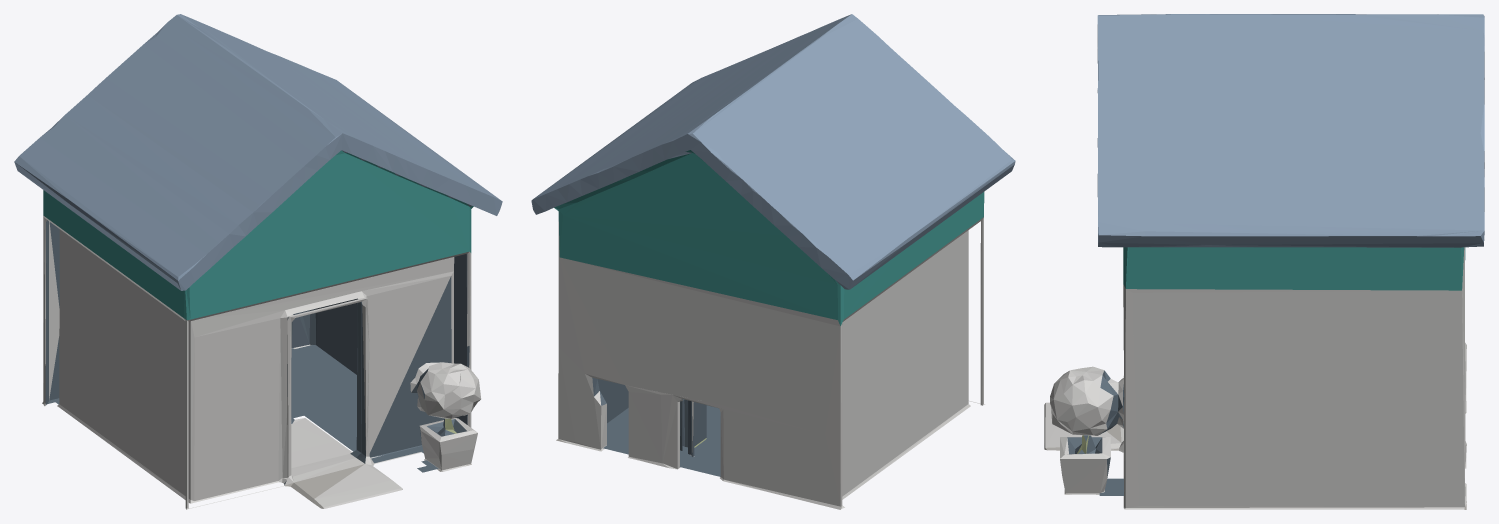
3 views of the same model, side by side, from view 1: azimuth 30°, elevation 25°; view 2: azimuth 150°, elevation 25°; view 3: azimuth 270°, elevation 25° (orthographic). The views are drawn at different scales.
Parts seen in each view (by area): view 1: geometry_0; view 2: geometry_0; view 3: geometry_0.
Part boxes in pixels (left/top/right/bottom): geometry_0: left=14, top=14, right=502, bottom=509; geometry_0: left=531, top=14, right=1015, bottom=509; geometry_0: left=1044, top=14, right=1484, bottom=509.
Bounding box in the file's own units: 0.8775 × 0.902 × 0.8712.
